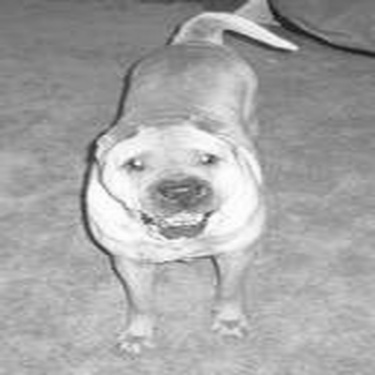dog: (76, 7, 307, 360)
